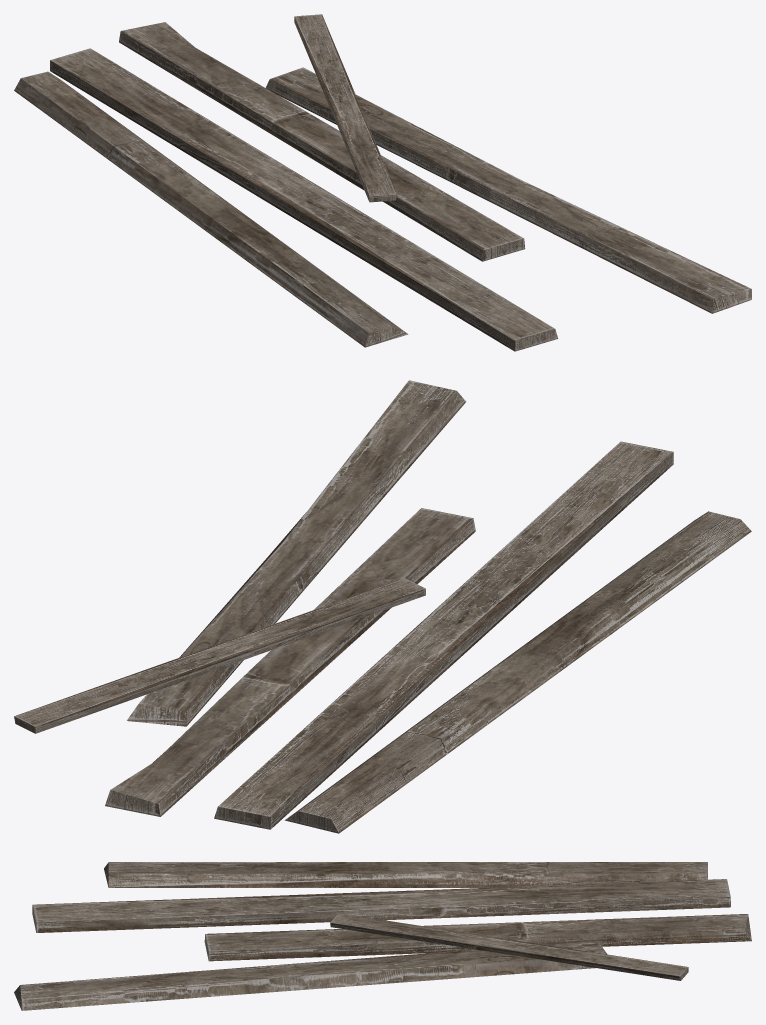
Rendered from SM_WoodPlank07.FBX.
3 renders of one model, top to bottom at view 1: azimuth 30°, elevation 25°; view 2: azimuth 150°, elevation 25°; view 3: azimuth 270°, elevation 25°, orthographic. The views are drawn at different scales.
Parts seen in each view (by area): view 1: SM_WoodPlank07; view 2: SM_WoodPlank07; view 3: SM_WoodPlank07.
Part boxes in pixels (x1,y1,x2,y2): SM_WoodPlank07: (14, 14, 751, 351); SM_WoodPlank07: (14, 380, 751, 833); SM_WoodPlank07: (14, 862, 751, 1010).
Bounding box in the file's own units: 279 × 611 × 13.2.
